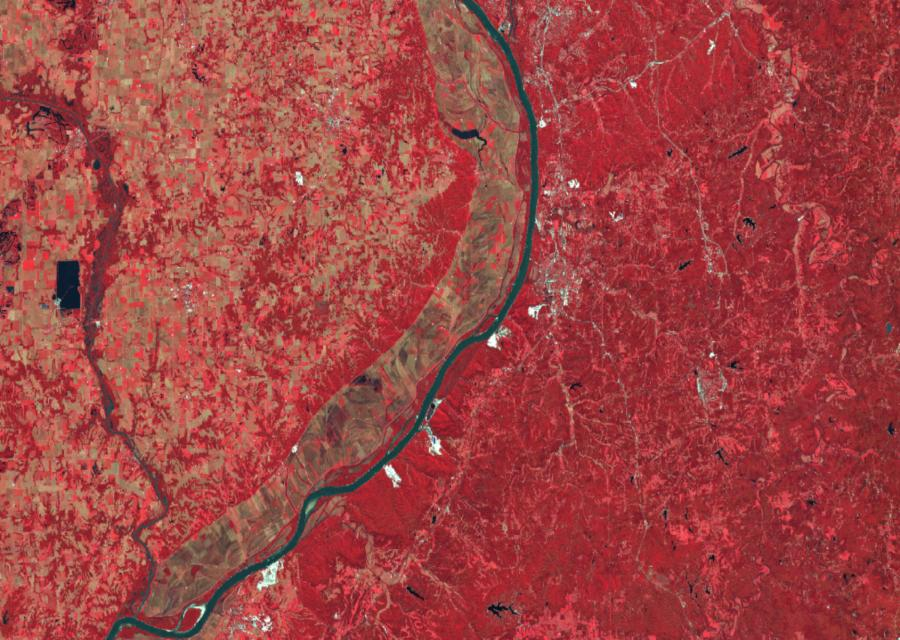Potential Lime Manufacturing Facility: (256, 562, 286, 590)
